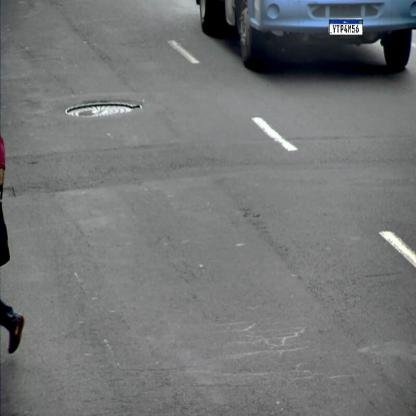PlacaM: (329, 20, 363, 36)
